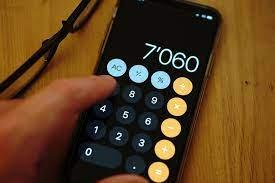Calculator: (82, 34, 203, 183)
